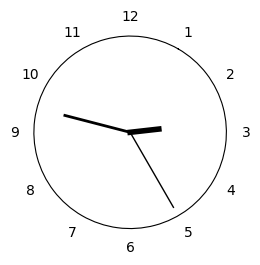12: (122, 9, 139, 23)
circle: (33, 37, 227, 229)
hours: (128, 126, 162, 136)
minutes: (63, 114, 129, 132)
seconds: (132, 135, 174, 207)
